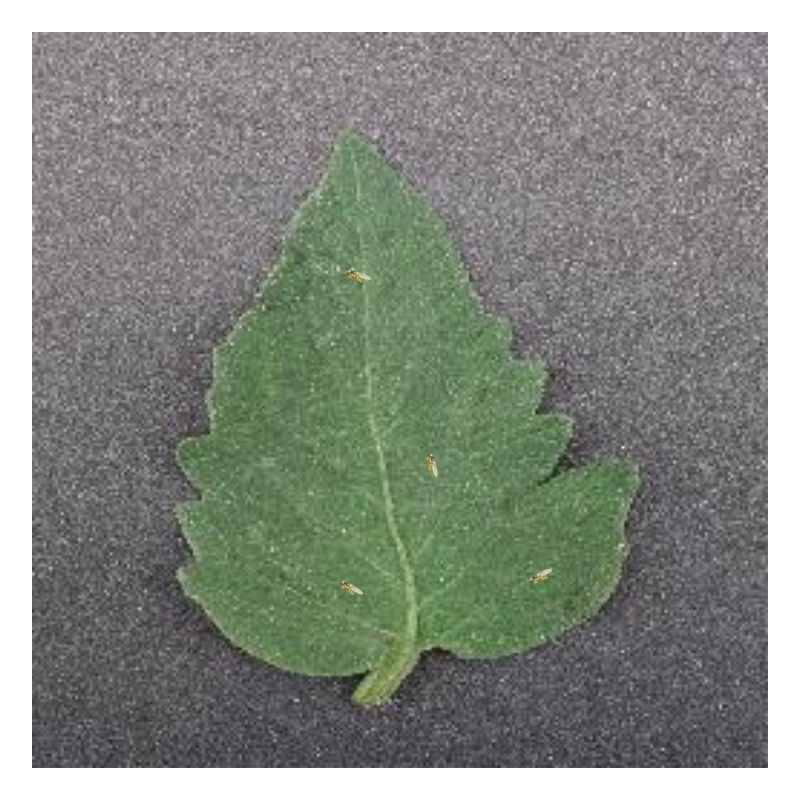liriomyza: (526, 566, 557, 585), (338, 578, 365, 599), (344, 265, 372, 283), (423, 451, 439, 478)
